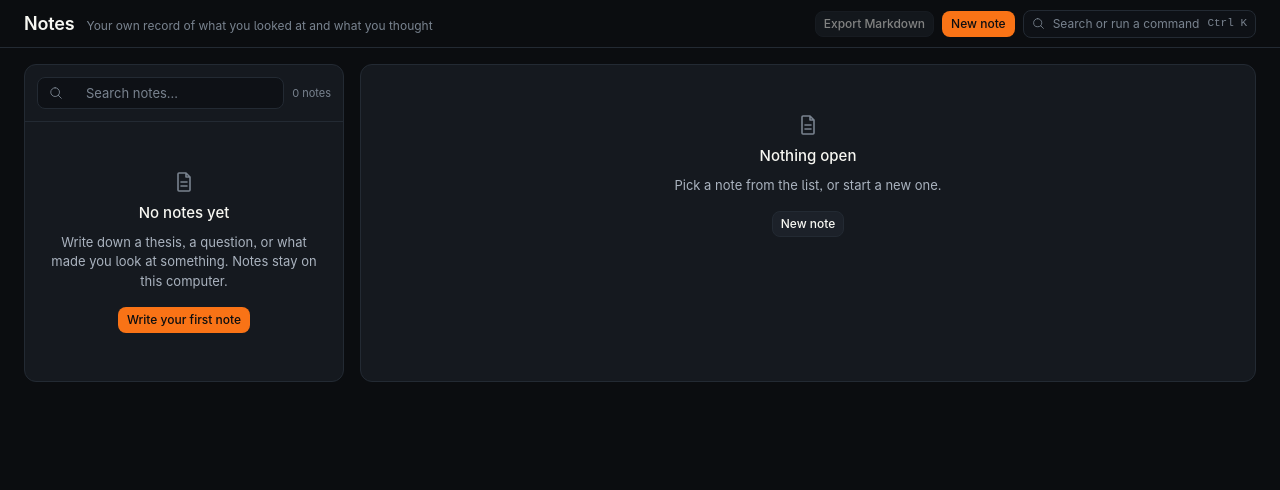
notes workspace › writes a note and shows it in the list
This screenshot has width=1280, height=490.
Expected: the text "No notes yet" is shown, x1=139 y1=202 x2=229 y2=224
Click the 1st button "New note": (978, 24) x1=942 y1=10 x2=1015 y2=36
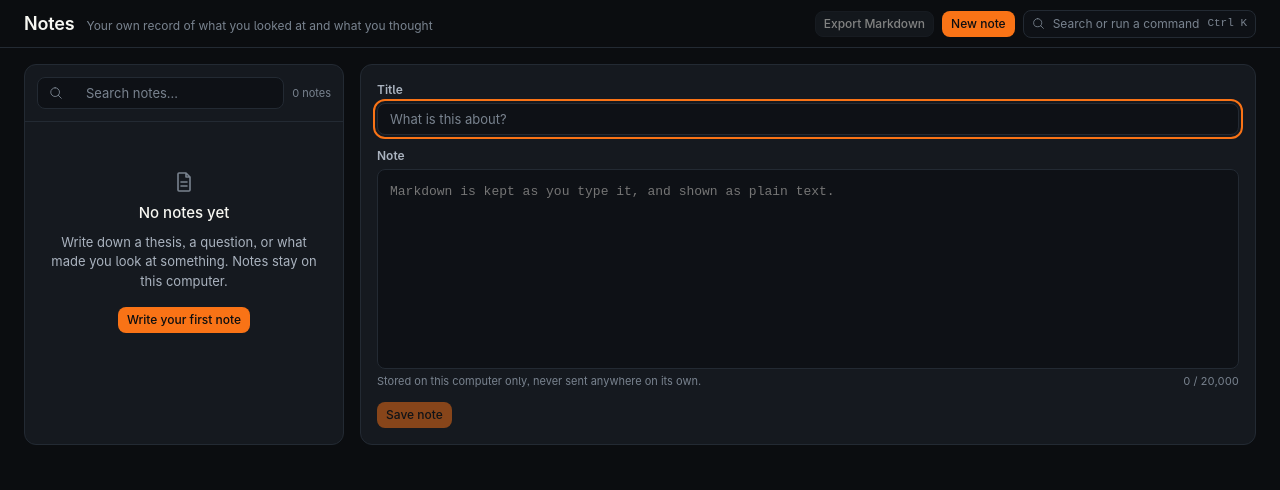
In the field labelled "Title": (808, 119) x1=377 y1=103 x2=1239 y2=135, type "Junk spreads"
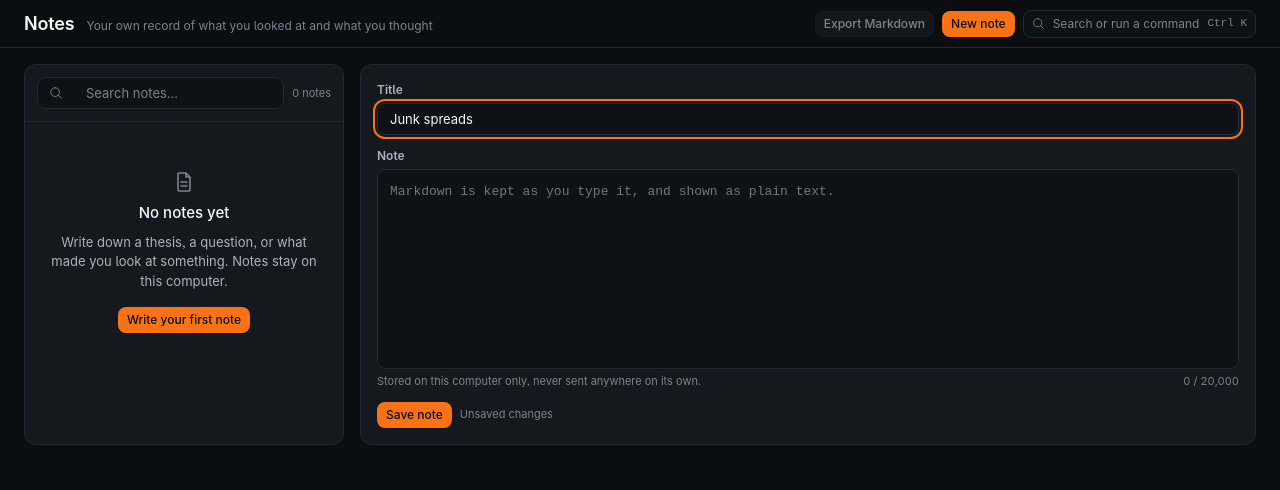
In the text box labelled "Note": (808, 269) x1=377 y1=169 x2=1239 y2=369, type "Tightest premium in a year."
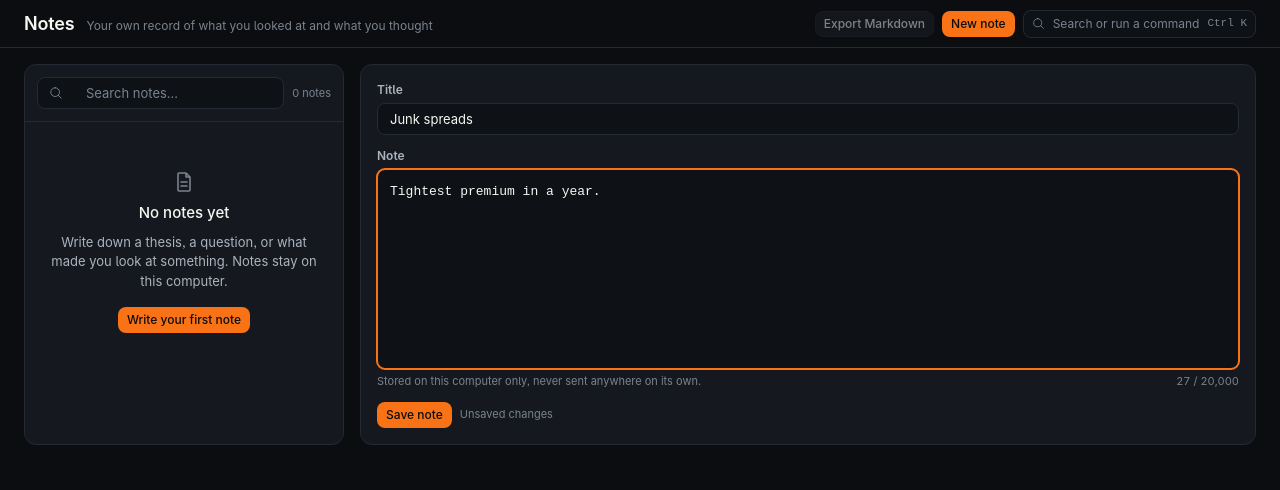
Click the button "Save note": (414, 414) x1=377 y1=402 x2=452 y2=428
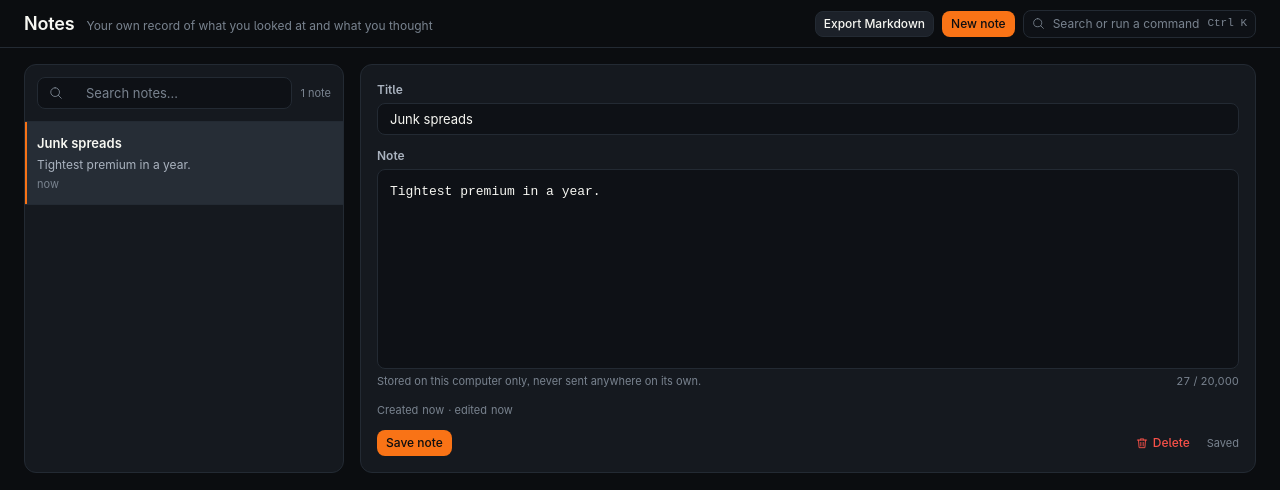
Expected: the text "Junk spreads" is shown, x1=37 y1=134 x2=122 y2=154
Expected: the text "Tightest premium in a year." is shown, x1=37 y1=156 x2=191 y2=174
Expected: the text "1 note" is shown, x1=300 y1=85 x2=331 y2=101
